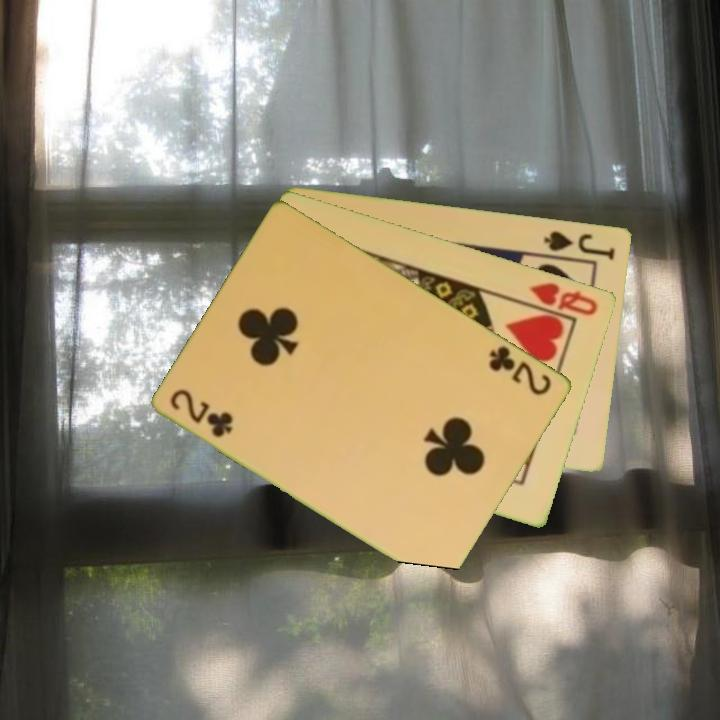2c: (486, 342, 555, 399), (167, 385, 237, 441)
Js: (541, 227, 618, 263)
Qh: (526, 278, 601, 318)
